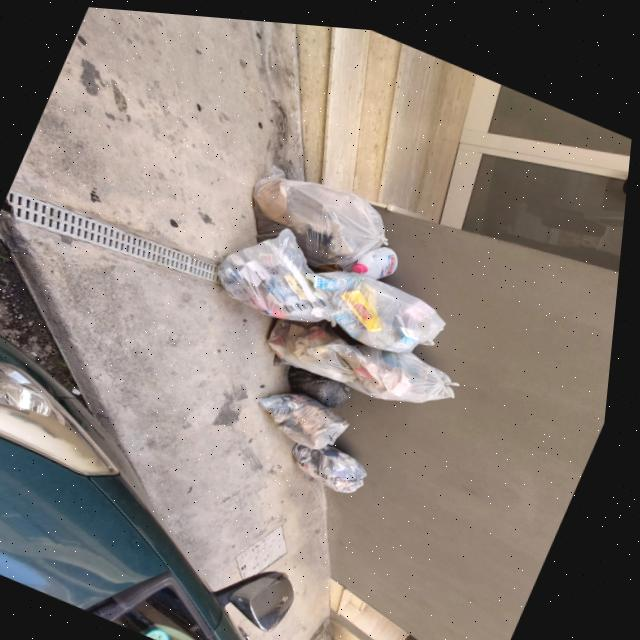Mixed Waste -Black Bag-: (283, 356, 364, 410)
Other: (355, 231, 409, 283)
Recycled Waste -Grey or Green Bag-: (258, 290, 476, 422), (235, 150, 411, 285), (210, 206, 370, 337), (293, 247, 466, 368), (249, 372, 367, 457), (289, 427, 385, 496)
